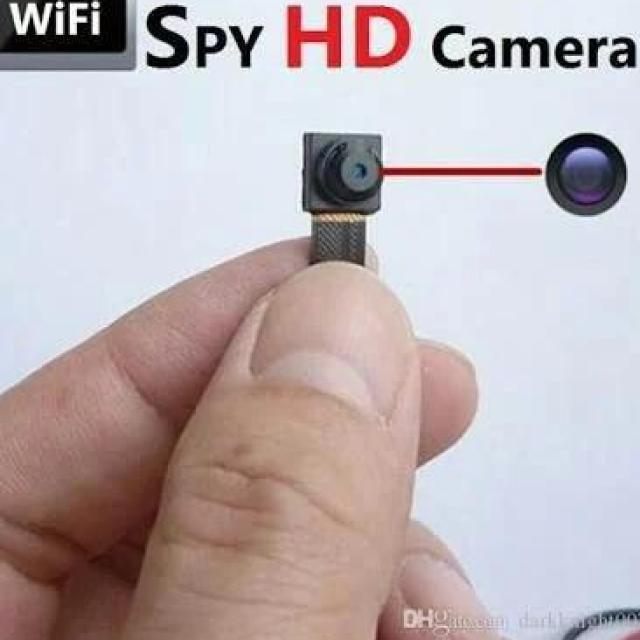hidden camera: (351, 162, 369, 183)
